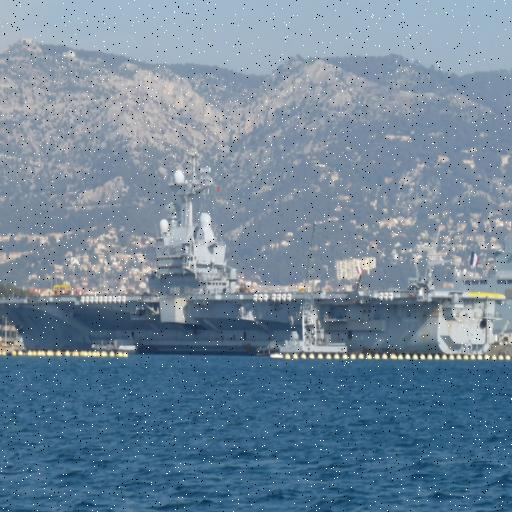Portanaves: (1, 145, 503, 363)
